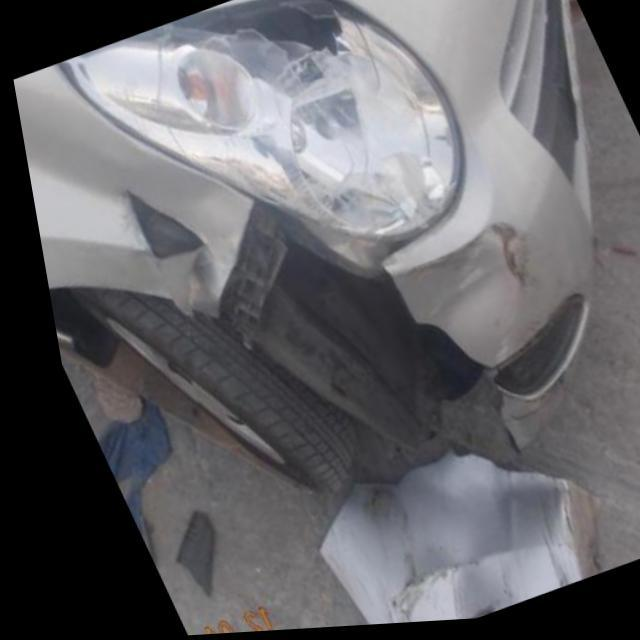dent: (11, 78, 133, 246), (152, 251, 220, 317)
lamp broken: (172, 0, 353, 66)
no part: (202, 201, 500, 460)
rub: (381, 246, 509, 372)
scratch: (119, 189, 192, 264), (468, 222, 516, 300)
